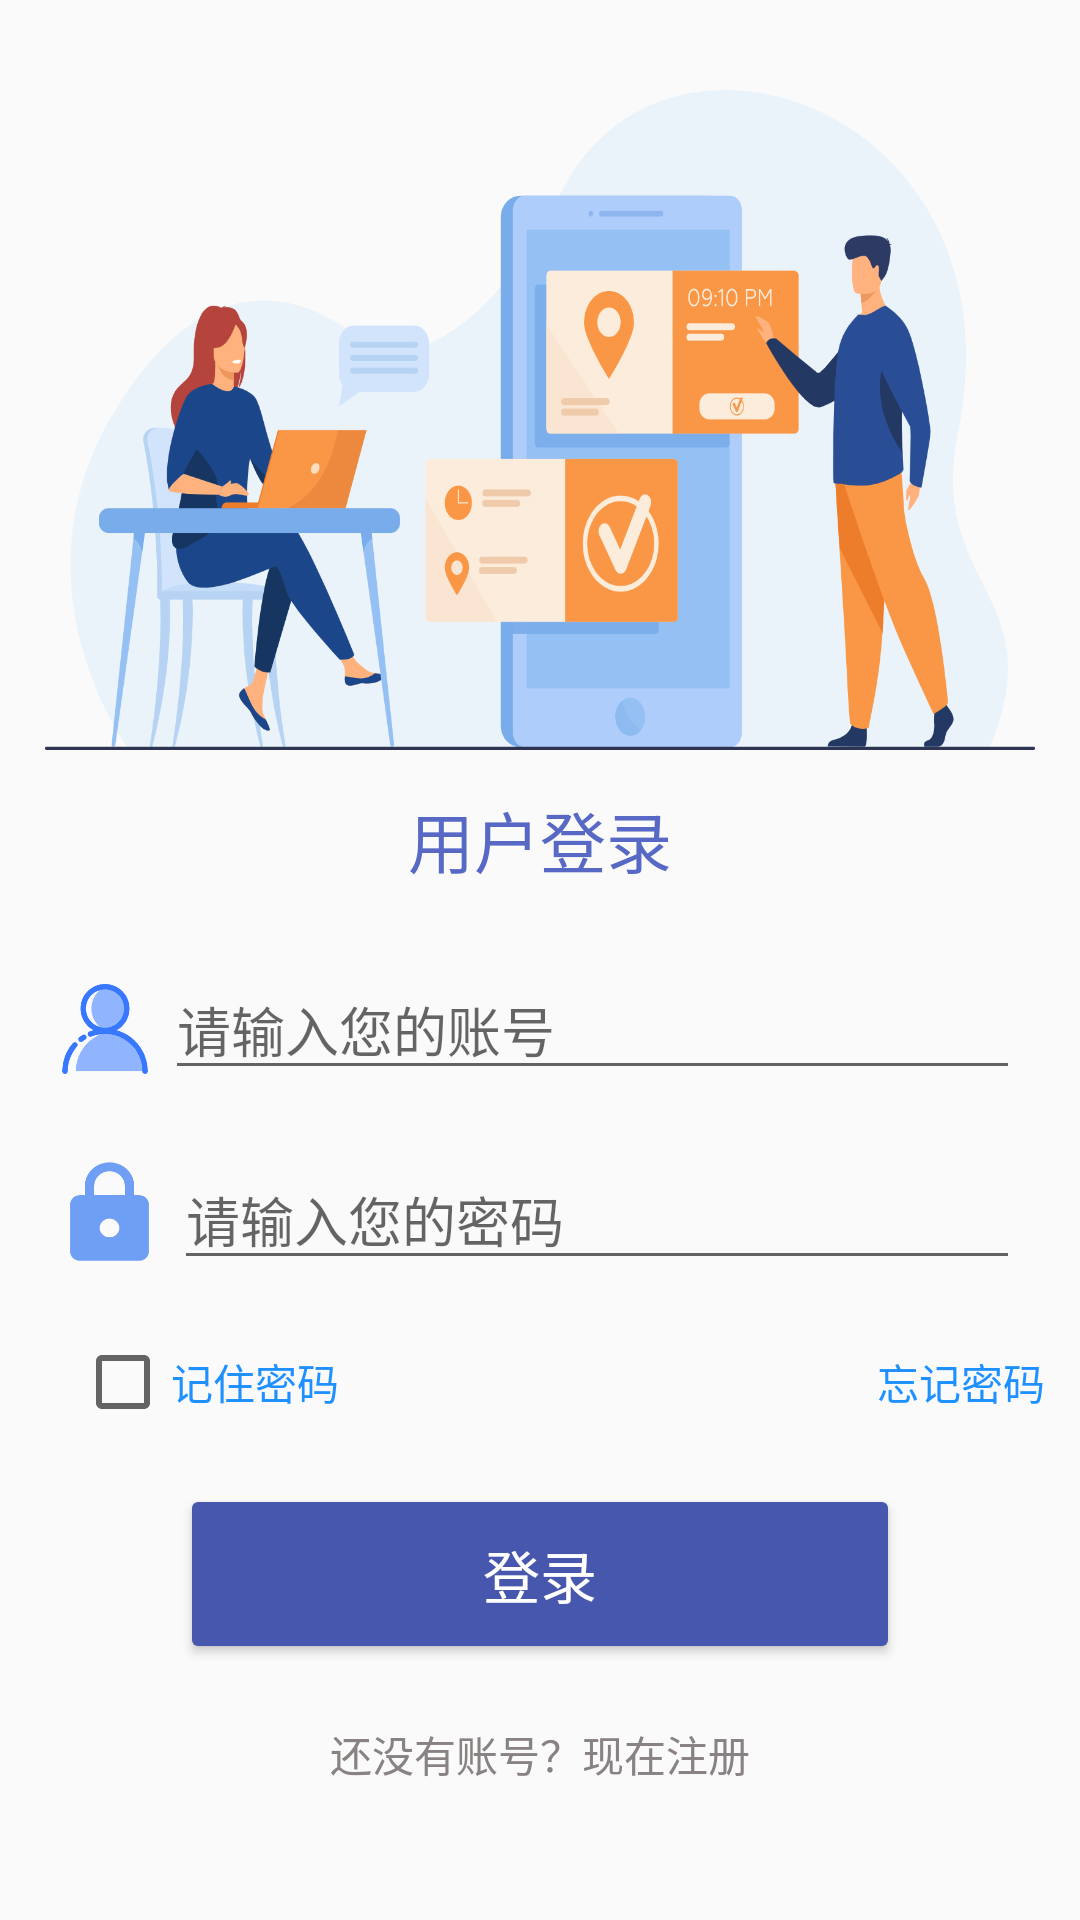

Icons on this 1080w x 1920h Android screen, each with the point to tap as [x,y]:
account: [105,1029]
password: [109,1211]
